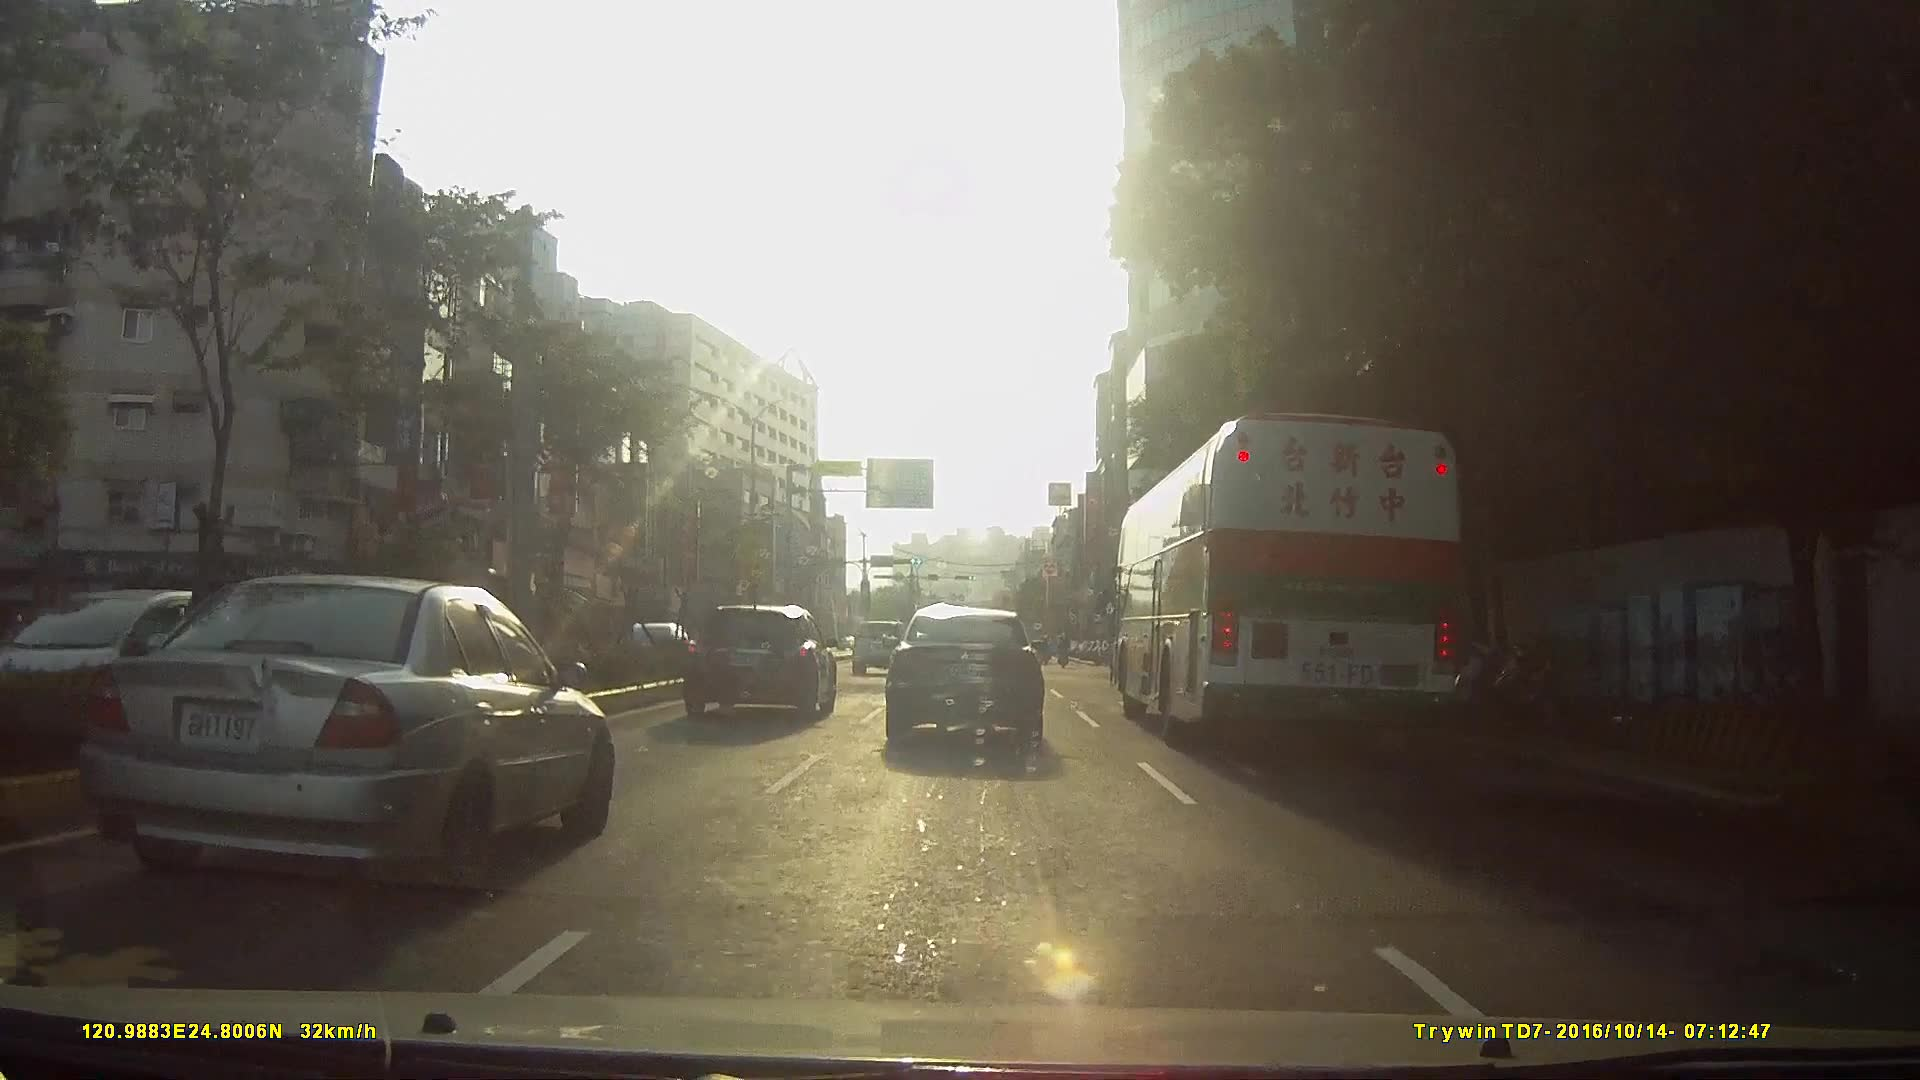vehicle: (71, 574, 616, 913), (1104, 382, 1522, 762), (7, 592, 223, 740), (882, 609, 1047, 756), (680, 604, 837, 723), (852, 622, 909, 680)
